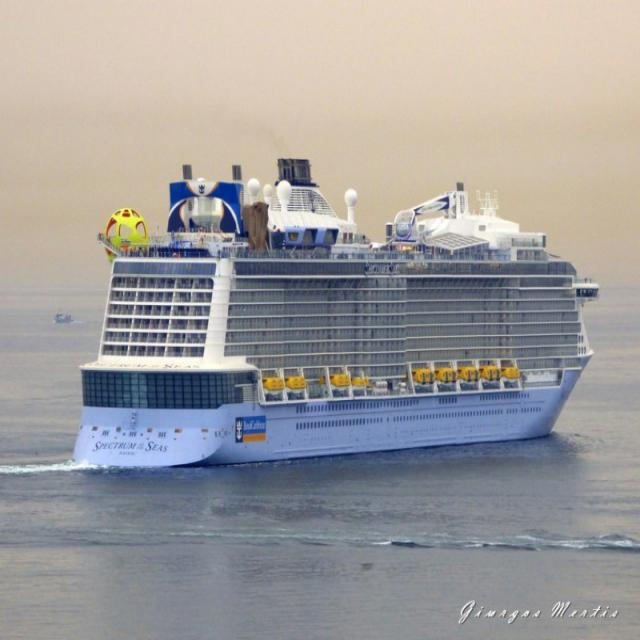cruises: (70, 151, 603, 480)
